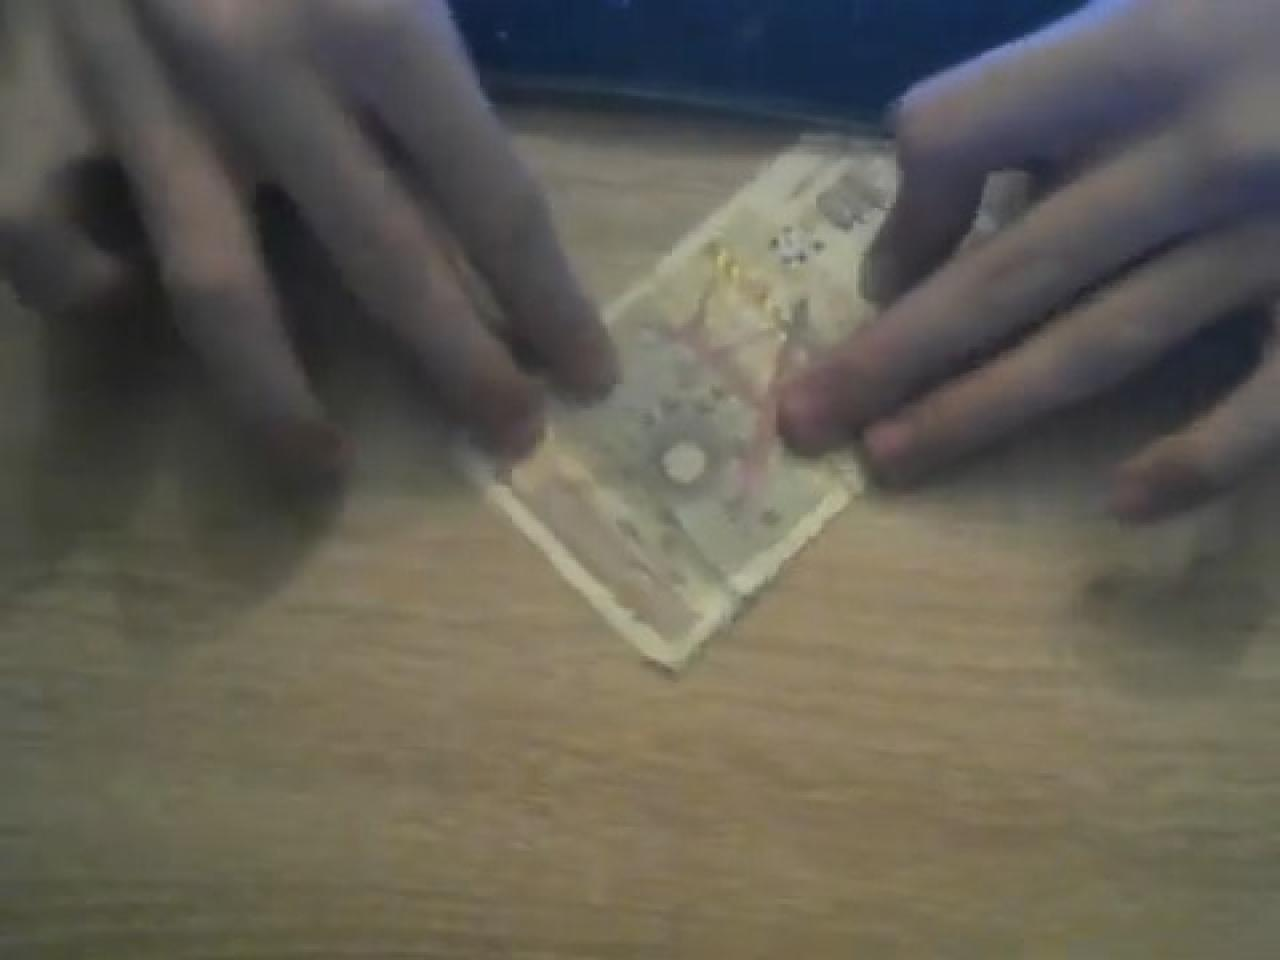10leva: (475, 133, 893, 678)
